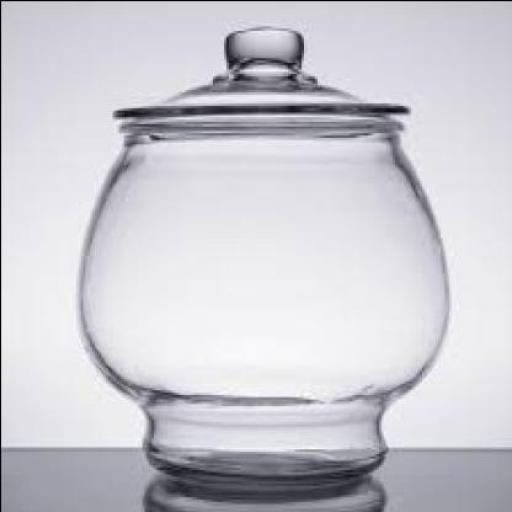glass: (82, 23, 451, 478)
